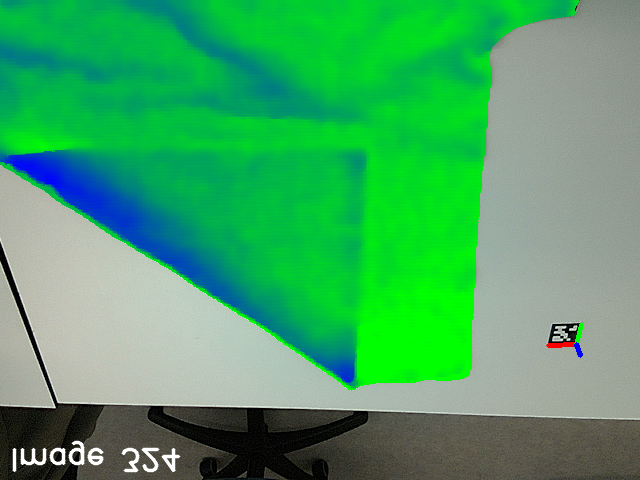V: (313, 131, 383, 188)
